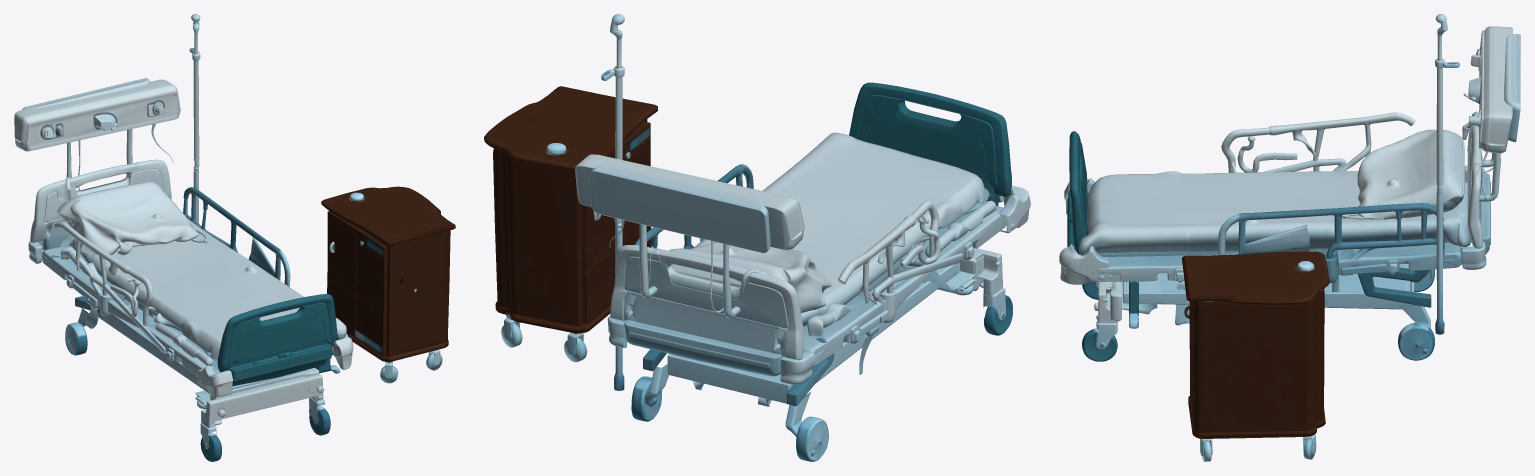
File: toonstudio_hospital_bed.glb
3 renders of one model, left to right at view 1: azimuth 30°, elevation 25°; view 2: azimuth 150°, elevation 25°; view 3: azimuth 270°, elevation 25°, orthographic. The views are drawn at different scales.
Visible parts, largest first — view 1: f376a19f_a57a_43bb_97f6_690c75db93e8; view 2: f376a19f_a57a_43bb_97f6_690c75db93e8; view 3: f376a19f_a57a_43bb_97f6_690c75db93e8.
Part boxes in pixels (x1,y1,x2,y2): f376a19f_a57a_43bb_97f6_690c75db93e8: (14, 14, 455, 461); f376a19f_a57a_43bb_97f6_690c75db93e8: (484, 14, 1030, 461); f376a19f_a57a_43bb_97f6_690c75db93e8: (1059, 14, 1520, 461).
Bounding box in the file's own units: 1.92 × 1.85 × 2.1.
Materials: 1 (1 with a texture image).
